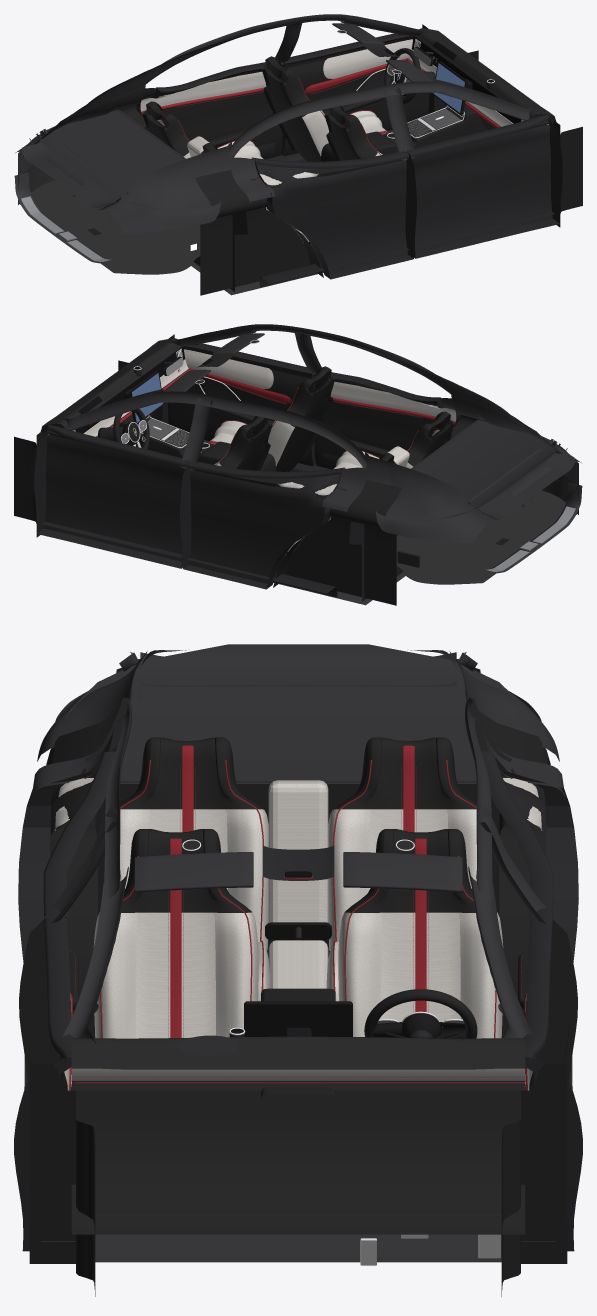
File: luxeed-rx-interior.glb
The picture shows the model from 3 angles, top to bottom: view 1: azimuth 30°, elevation 25°; view 2: azimuth 150°, elevation 25°; view 3: azimuth 270°, elevation 25°; orthographic projection. The views are drawn at different scales.
Visible parts, largest first — view 1: LuxeedRX_Cabin, int_door_R, int_rdoor_R, int_cpillar, int_rdoor_L, int_parcel_shelf, int_door_L, int_rear_sill, int_qtr_lower, int_headliner, screen_main; view 2: LuxeedRX_Cabin, int_door_L, int_rdoor_L, int_cpillar, int_rdoor_R, int_parcel_shelf, int_door_R, int_rear_sill, int_qtr_lower, int_headliner, screen_main; view 3: LuxeedRX_Cabin, int_parcel_shelf, int_rdoor_R, int_rdoor_L, int_door_L, int_door_R, int_cpillar, int_qtr_lower, int_cpillar_flange, int_rear_sill.
Part boxes in pixels (x1,y1,x2,y2): LuxeedRX_Cabin: (14,14,582,295); int_door_R: (406,115,562,258); int_rdoor_R: (251,151,415,279); int_cpillar: (15,84,231,233); int_rdoor_L: (136,62,284,159); int_parcel_shelf: (40,109,185,210); int_door_L: (281,33,429,156); int_rear_sill: (22,139,127,207); int_qtr_lower: (142,88,274,201); int_headliner: (63,19,344,122); screen_main: (433,63,464,112); LuxeedRX_Cabin: (14,324,582,605); int_door_L: (34,425,190,568); int_rdoor_L: (181,461,345,589); int_cpillar: (365,394,581,543); int_rdoor_R: (312,372,460,469); int_parcel_shelf: (411,419,556,520); int_door_R: (167,343,315,466); int_rear_sill: (469,449,574,517); int_qtr_lower: (322,398,454,511); int_headliner: (252,329,533,432); screen_main: (132,373,163,422); LuxeedRX_Cabin: (26,691,570,1296); int_parcel_shelf: (65,644,531,783); int_rdoor_R: (18,751,115,1089); int_rdoor_L: (481,751,578,1089); int_door_L: (523,916,582,1251); int_door_R: (14,916,73,1251); int_cpillar: (37,651,559,761); int_qtr_lower: (32,728,564,796); int_cpillar_flange: (85,698,511,761); int_rear_sill: (140,652,456,686).
Bounding box in the file's own units: 3.59 × 1.19 × 1.91.
28 materials, 3 textured.
